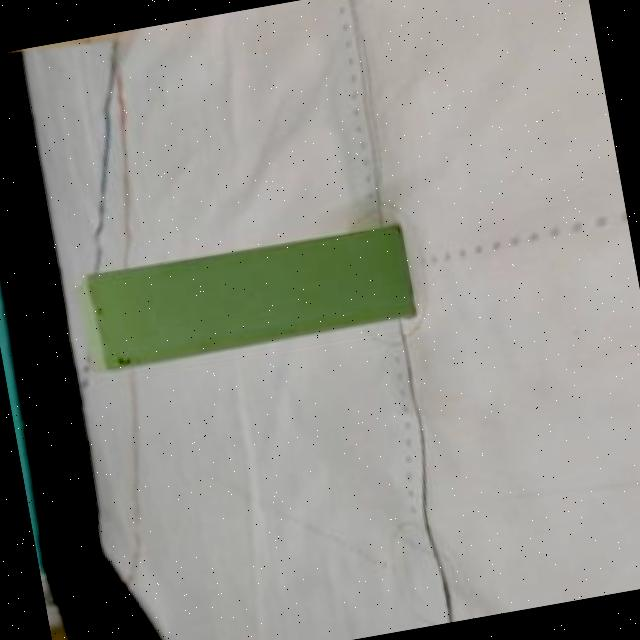greenbox: (71, 218, 418, 374)
